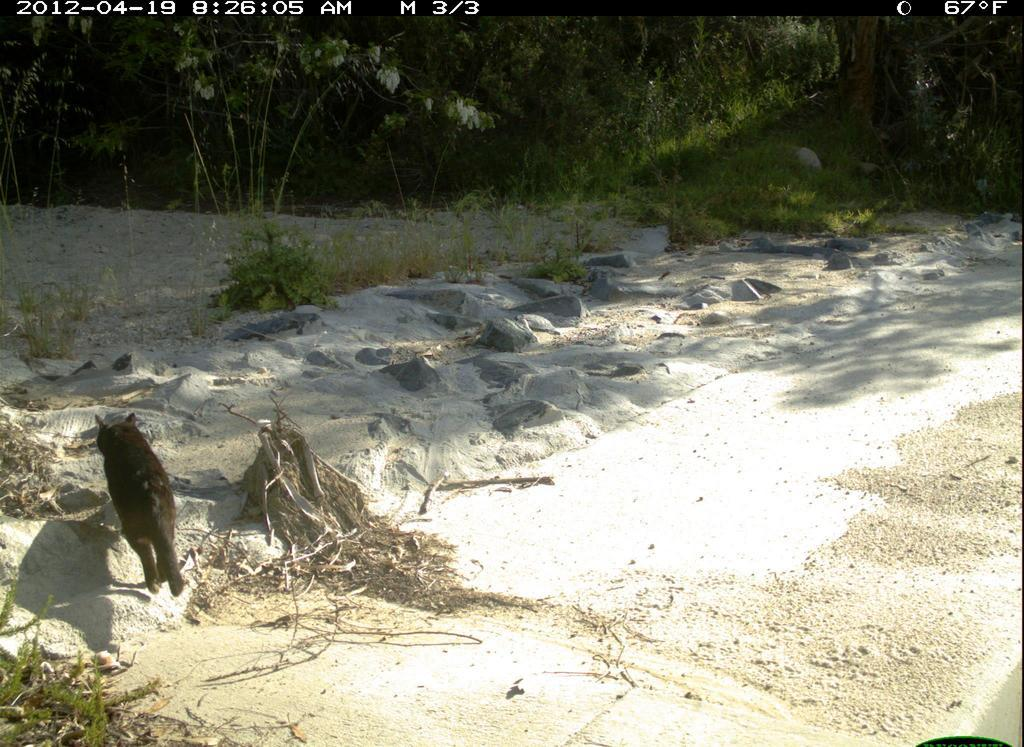cat: (90, 399, 196, 606)
